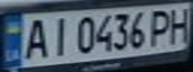0: (72, 14, 96, 54)
3: (112, 10, 133, 52)
4: (93, 11, 115, 53)
6: (127, 8, 151, 50)
A: (21, 15, 51, 61)
H: (163, 5, 193, 44)
I: (45, 15, 72, 57)
P: (148, 7, 175, 47)
